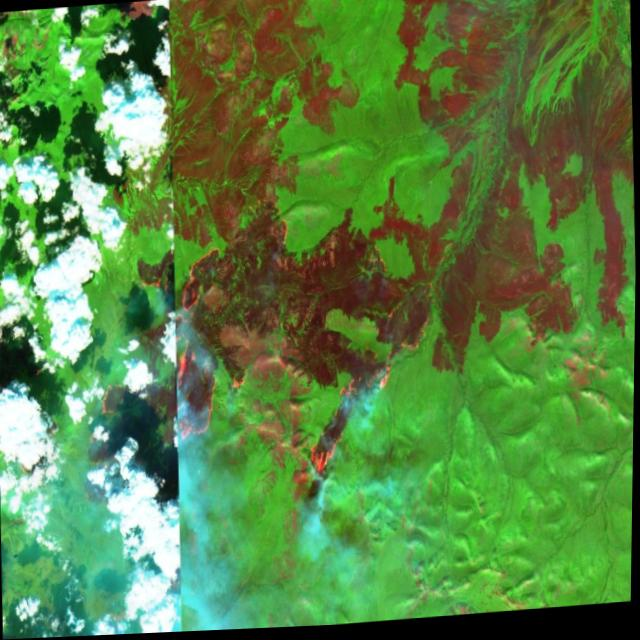fire: (274, 231, 437, 507), (164, 241, 258, 477)
